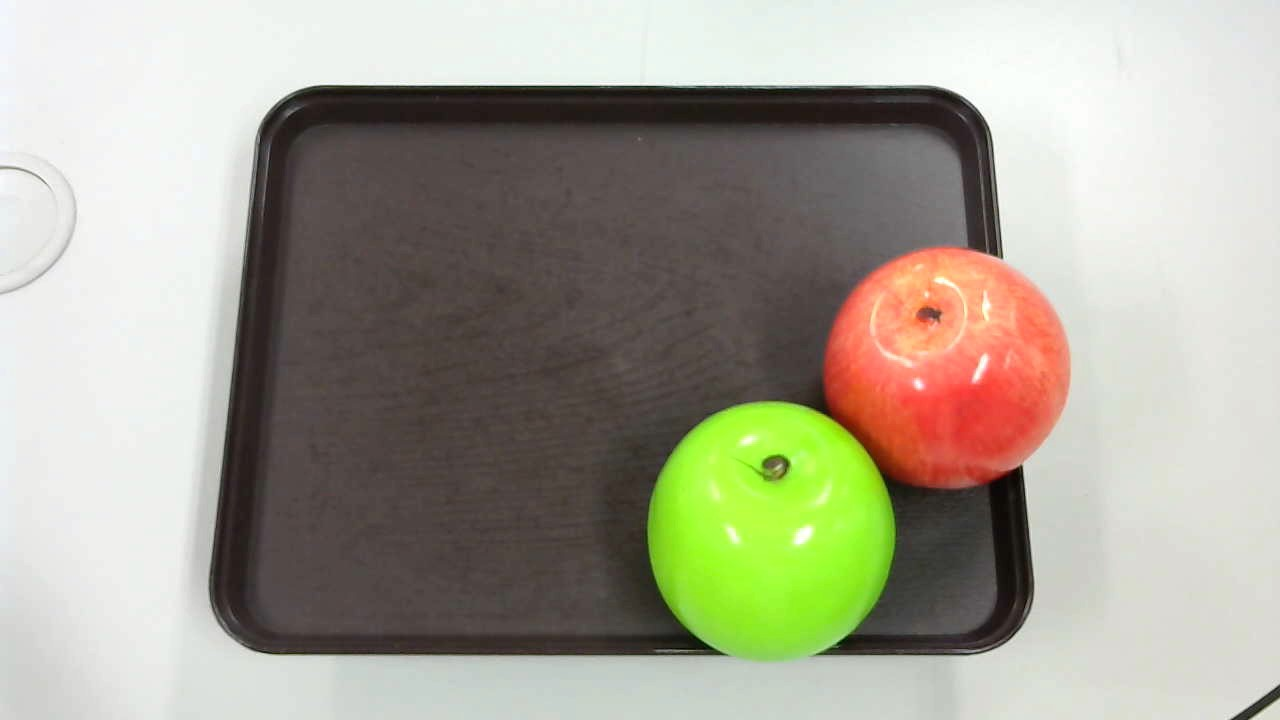green apple: (645, 398, 896, 663)
red apple: (821, 248, 1073, 500)
